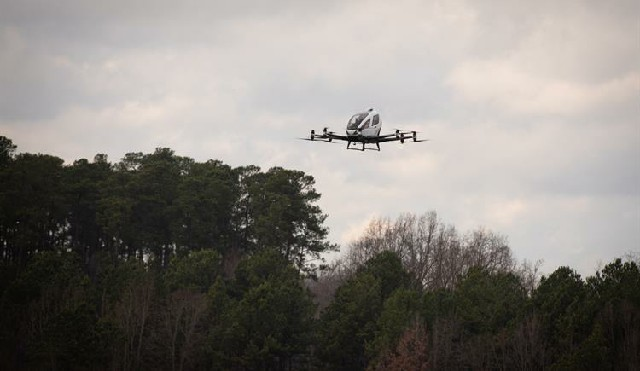maybay_khongnguoilai: (300, 108, 425, 154)
